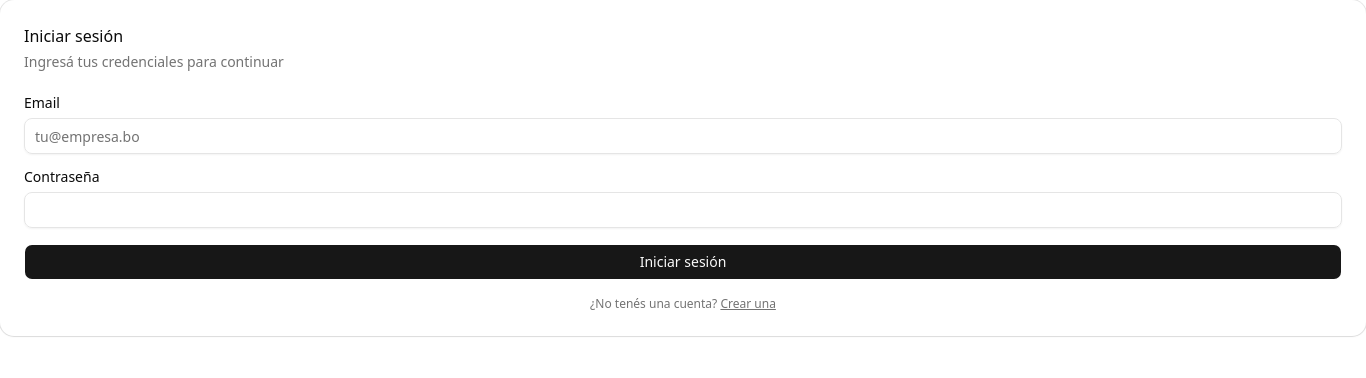
it: LoginForm › muestra error si el password tiene menos de 8 caracteres
Type "a@b.bo" into the field labelled "Email" at (683, 136), box [24,118,1342,154]
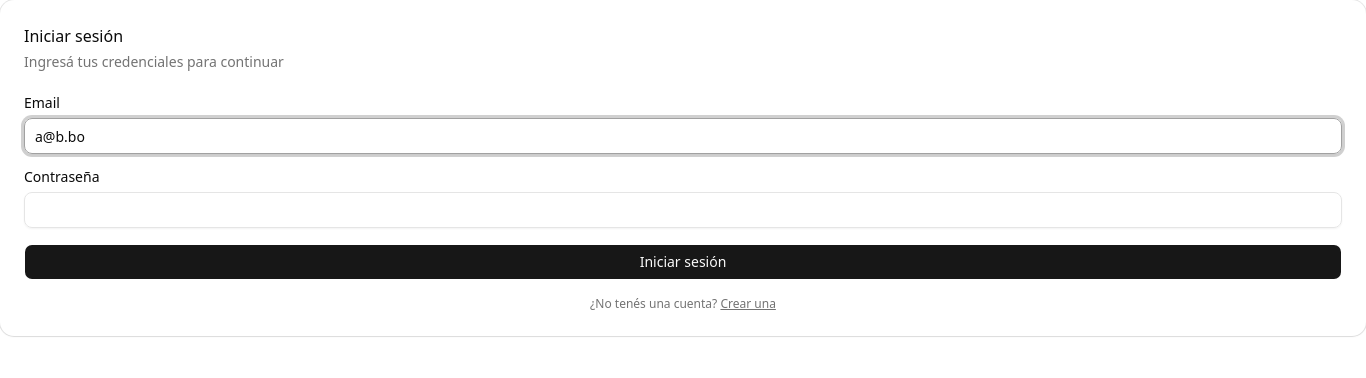
Type "123" into the password field labelled "Contraseña" at (683, 210), box [24,192,1342,228]
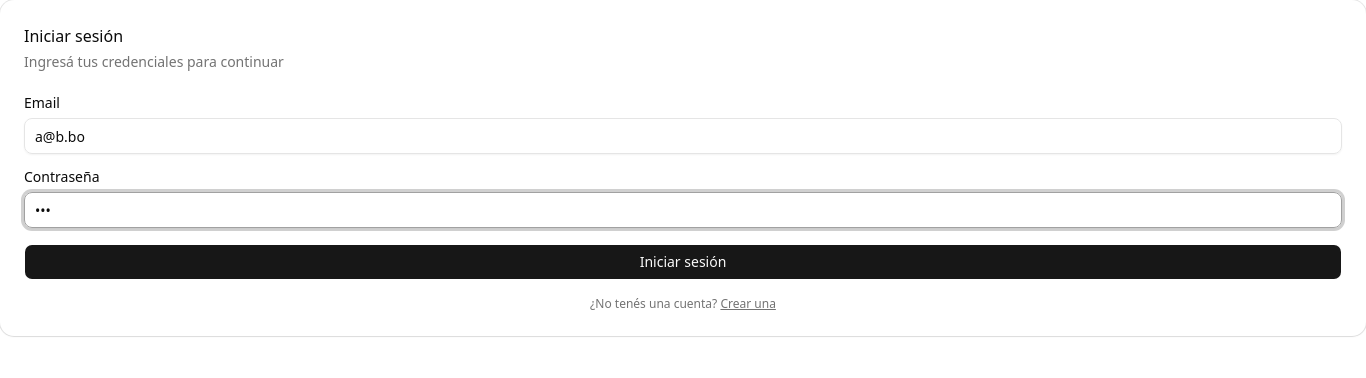
Click the button "Iniciar sesión" at (683, 262), box [24,244,1342,280]
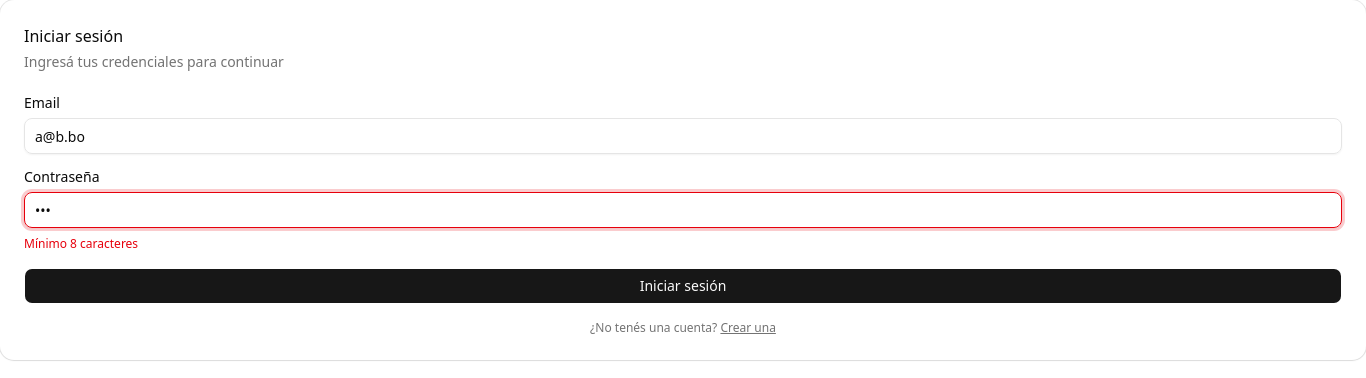
Result: the text "Mínimo 8 caracteres" is shown at [24,235,138,252]
